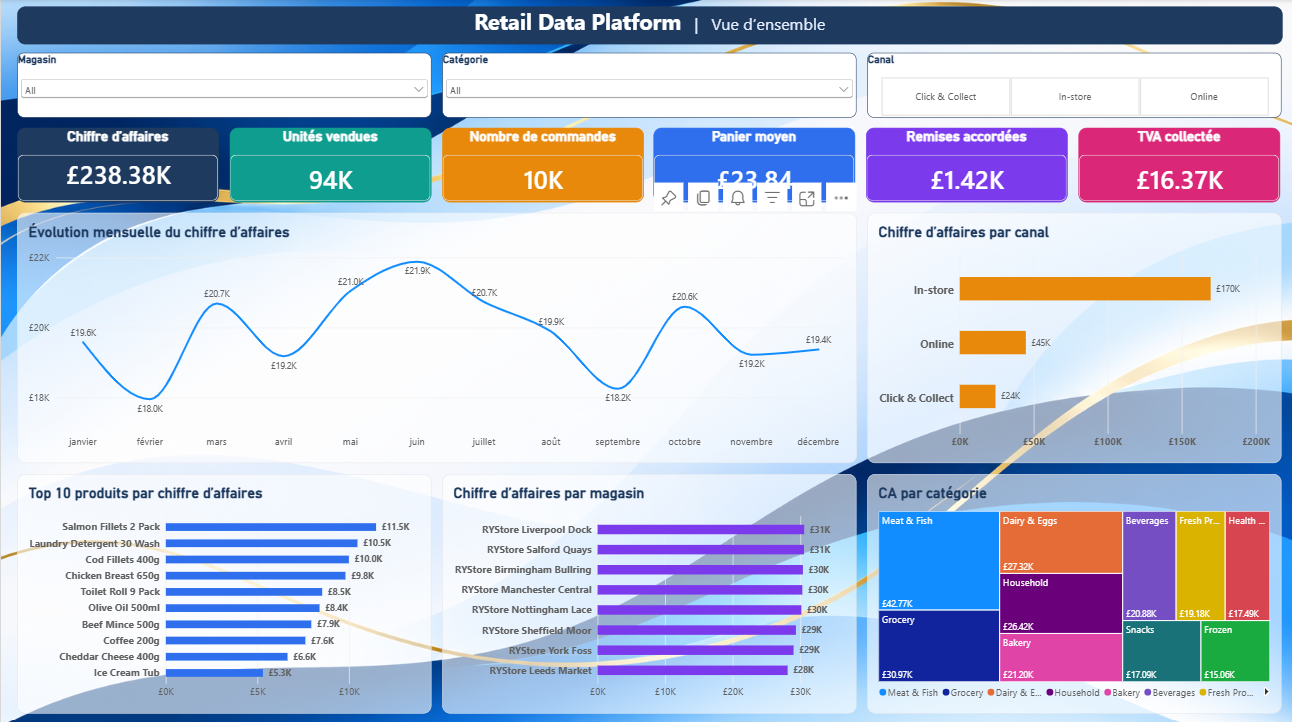

What the dashboard file says about the page in this screenshot:
{"tool":"powerbi","page":{"name":"Page 1","canvas":[1920,1080],"ordinal":0},"visuals":[{"type":"cardVisual","title":"Chiffre d’affaires","fields":{"Data":["fact_sales.Total Sales"]},"box":[1029.2,6.2,278,143],"z":0},{"type":"cardVisual","title":"Unités vendues","fields":{"Data":["fact_sales.Total Quantity"]},"box":[685.4,0,307,171],"z":1},{"type":"cardVisual","title":"Nombre de commandes","fields":{"Data":["fact_sales.Total Orders"]},"box":[1274.1,0,307,171],"z":2},{"type":"cardVisual","title":"Valeur moyenne par commande","fields":{"Data":["fact_sales.Average Order Value"]},"box":[1613.7,6.2,307,171],"z":3},{"type":"clusteredBarChart","title":"Total Ventes par Canal","fields":{"Category":["fact_sales.order_channel"],"Y":["fact_sales.Total Sales"]},"box":[26.8,634,811,426.1],"z":4},{"type":"lineChart","title":"Monthly Sales Trend","fields":{"Category":["daily_sales.order_date.Variation.Hiérarchie de dates.Mois"],"Y":["Sum(daily_sales.total_revenue)"]},"box":[868.6,393.1,1051.8,578.4],"z":5},{"type":"clusteredBarChart","title":"Top 10 Products by Sales","fields":{"Category":["dim_products.product_name"],"Y":["fact_sales.Total Sales"]},"box":[57.6,230.5,671,452.8],"z":6},{"type":"slicer","title":"Store Name","fields":{"Values":["dim_stores.store_name"]},"box":[96.7,0,317,119.4],"z":7},{"type":"slicer","title":"Product Category","fields":{"Values":["dim_products.category"]},"box":[57.6,111.1,317,119.4],"z":8},{"type":"slicer","title":"Canal","fields":{"Values":["fact_sales.order_channel"]},"box":[411.7,78.2,317,119.4],"z":9}]}

Visuals, with their boxes in screenshot pixels (x1, y1, x2, y2), scaled from the page's 1920x1080 canvas onto the 1292x722 screenshot:
"Chiffre d’affaires" cardVisual: [693, 4, 880, 100]
"Unités vendues" cardVisual: [461, 0, 668, 114]
"Nombre de commandes" cardVisual: [857, 0, 1064, 114]
"Valeur moyenne par commande" cardVisual: [1086, 4, 1291, 118]
"Total Ventes par Canal" clusteredBarChart: [18, 424, 564, 709]
"Monthly Sales Trend" lineChart: [584, 263, 1291, 649]
"Top 10 Products by Sales" clusteredBarChart: [39, 154, 490, 457]
"Store Name" slicer: [65, 0, 278, 80]
"Product Category" slicer: [39, 74, 252, 154]
"Canal" slicer: [277, 52, 490, 132]
